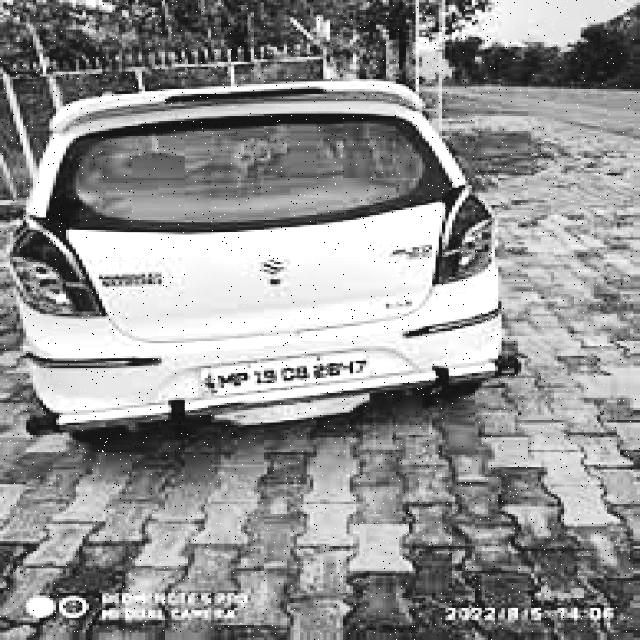Car: (0, 87, 531, 425)
